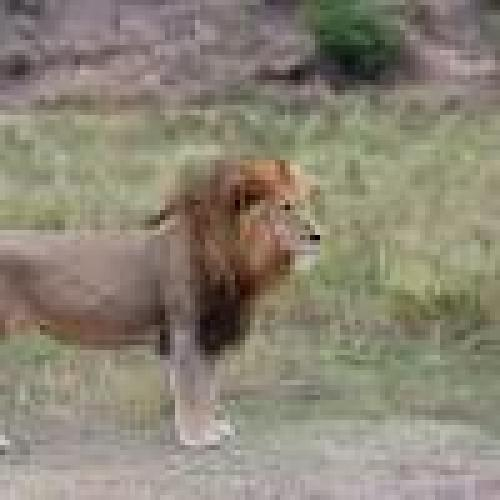lion-endangered: (0, 155, 328, 454)
